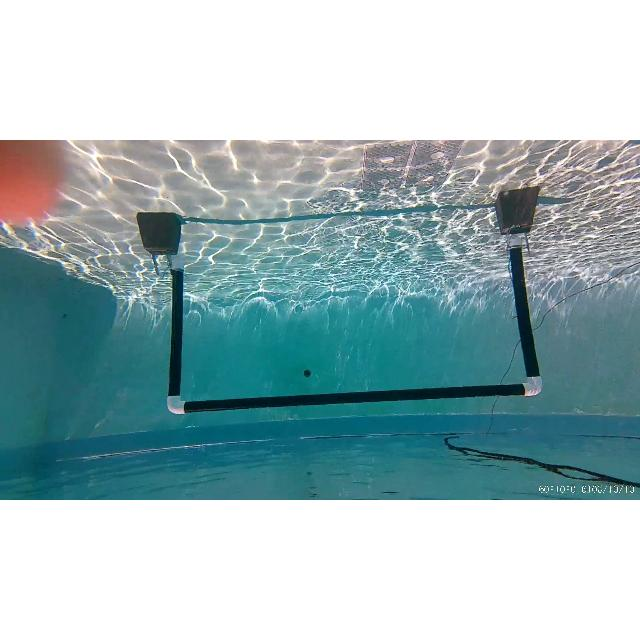prequal gate: (166, 234, 544, 416)
prequal gate leg l: (164, 249, 192, 415)
prequal gate leg r: (506, 228, 544, 398)
